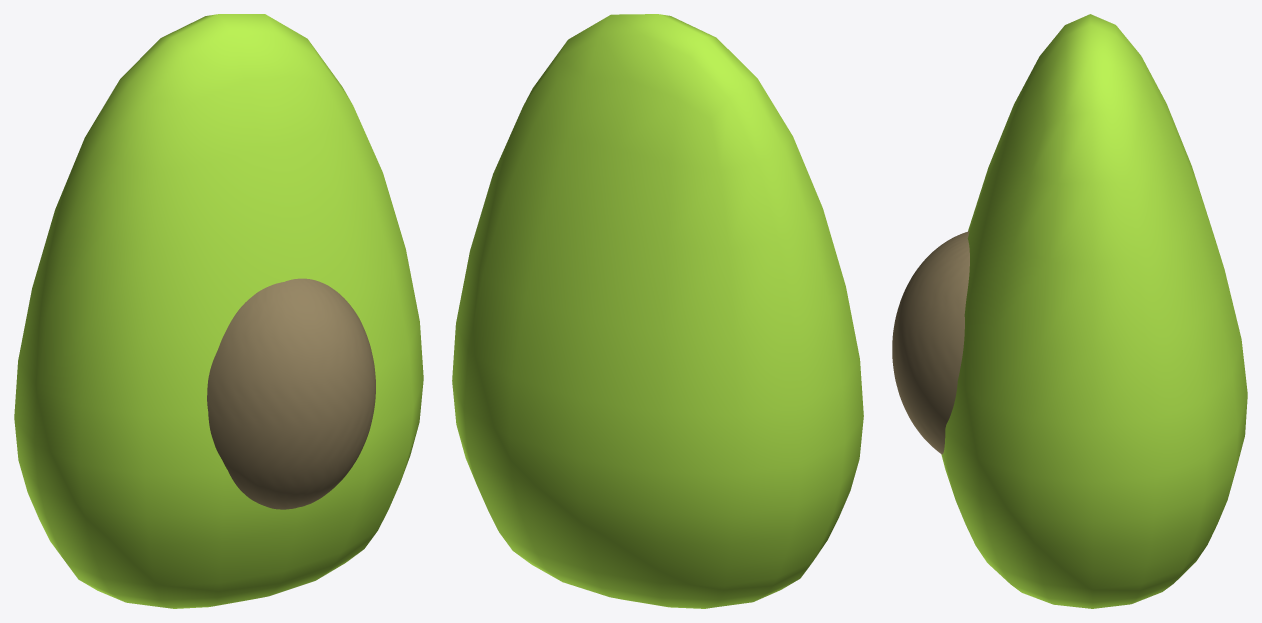
The model's file is aguacate.fbx.
3 views of the same model, side by side, from view 1: azimuth 30°, elevation 25°; view 2: azimuth 150°, elevation 25°; view 3: azimuth 270°, elevation 25° (orthographic). The views are drawn at different scales.
Parts seen in each view (by area): view 1: Sphere; view 2: Sphere; view 3: Sphere.
Boxes of the visible parts, bbox=[...] form: Sphere: bbox=[14, 14, 423, 608]; Sphere: bbox=[452, 14, 863, 608]; Sphere: bbox=[892, 14, 1247, 608].
Bounding box in the file's own units: 81.5 × 119 × 70.15.
